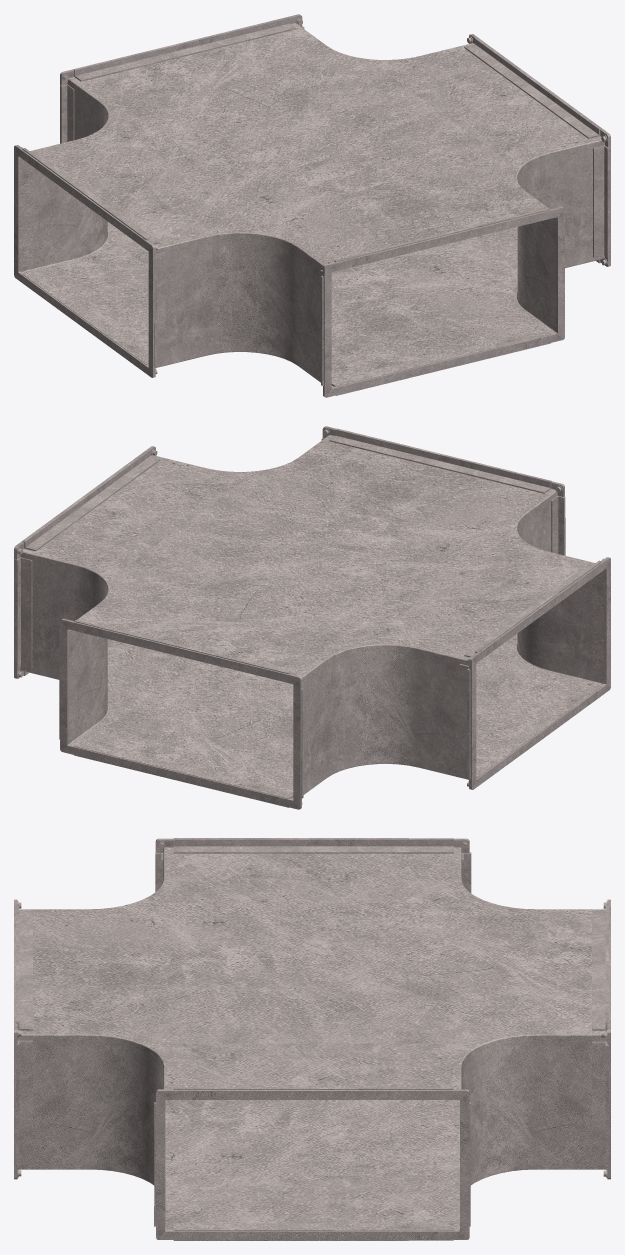
Rendered from SM_Square_Ducting_02d.glb.
The picture shows the model from 3 angles, top to bottom: view 1: azimuth 30°, elevation 25°; view 2: azimuth 150°, elevation 25°; view 3: azimuth 270°, elevation 25°; orthographic projection. The views are drawn at different scales.
Parts seen in each view (by area): view 1: SM_Square_Ducting_02d; view 2: SM_Square_Ducting_02d; view 3: SM_Square_Ducting_02d.
Boxes of the visible parts, x1=… form: SM_Square_Ducting_02d: x1=14, y1=14, x2=610, y2=397; SM_Square_Ducting_02d: x1=14, y1=426, x2=610, y2=809; SM_Square_Ducting_02d: x1=14, y1=838, x2=610, y2=1240.
Bounding box in the file's own units: 1.5 × 0.4213 × 1.5.
Materials: 1 (1 with a texture image).
